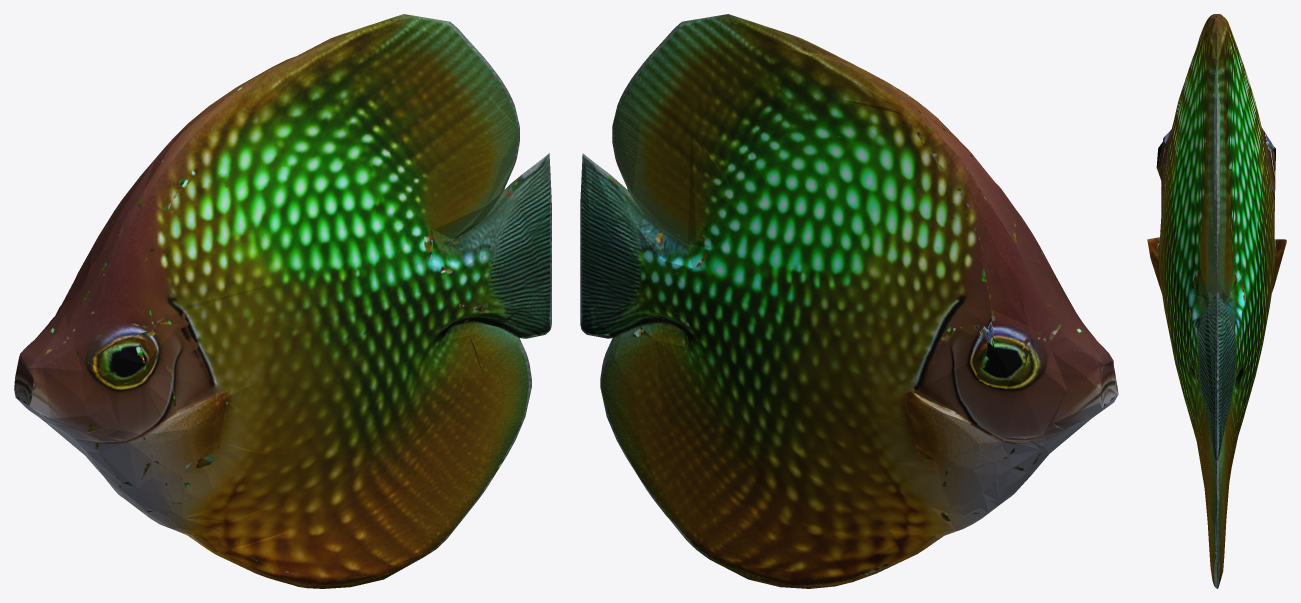
The model's file is fish_0032_smpl23_resized.glb.
3 renders of one model, left to right at view 1: azimuth 30°, elevation 25°; view 2: azimuth 150°, elevation 25°; view 3: azimuth 270°, elevation 25°, orthographic. The views are drawn at different scales.
Visible parts, largest first — view 1: world; view 2: world; view 3: world.
Part boxes in pixels (<box>): world: <box>14,14,551,588</box>; world: <box>580,14,1118,588</box>; world: <box>1147,14,1286,588</box>.
Bounding box in the file's own units: 1.97 × 1.99 × 0.4725.
1 material, 1 textured.
